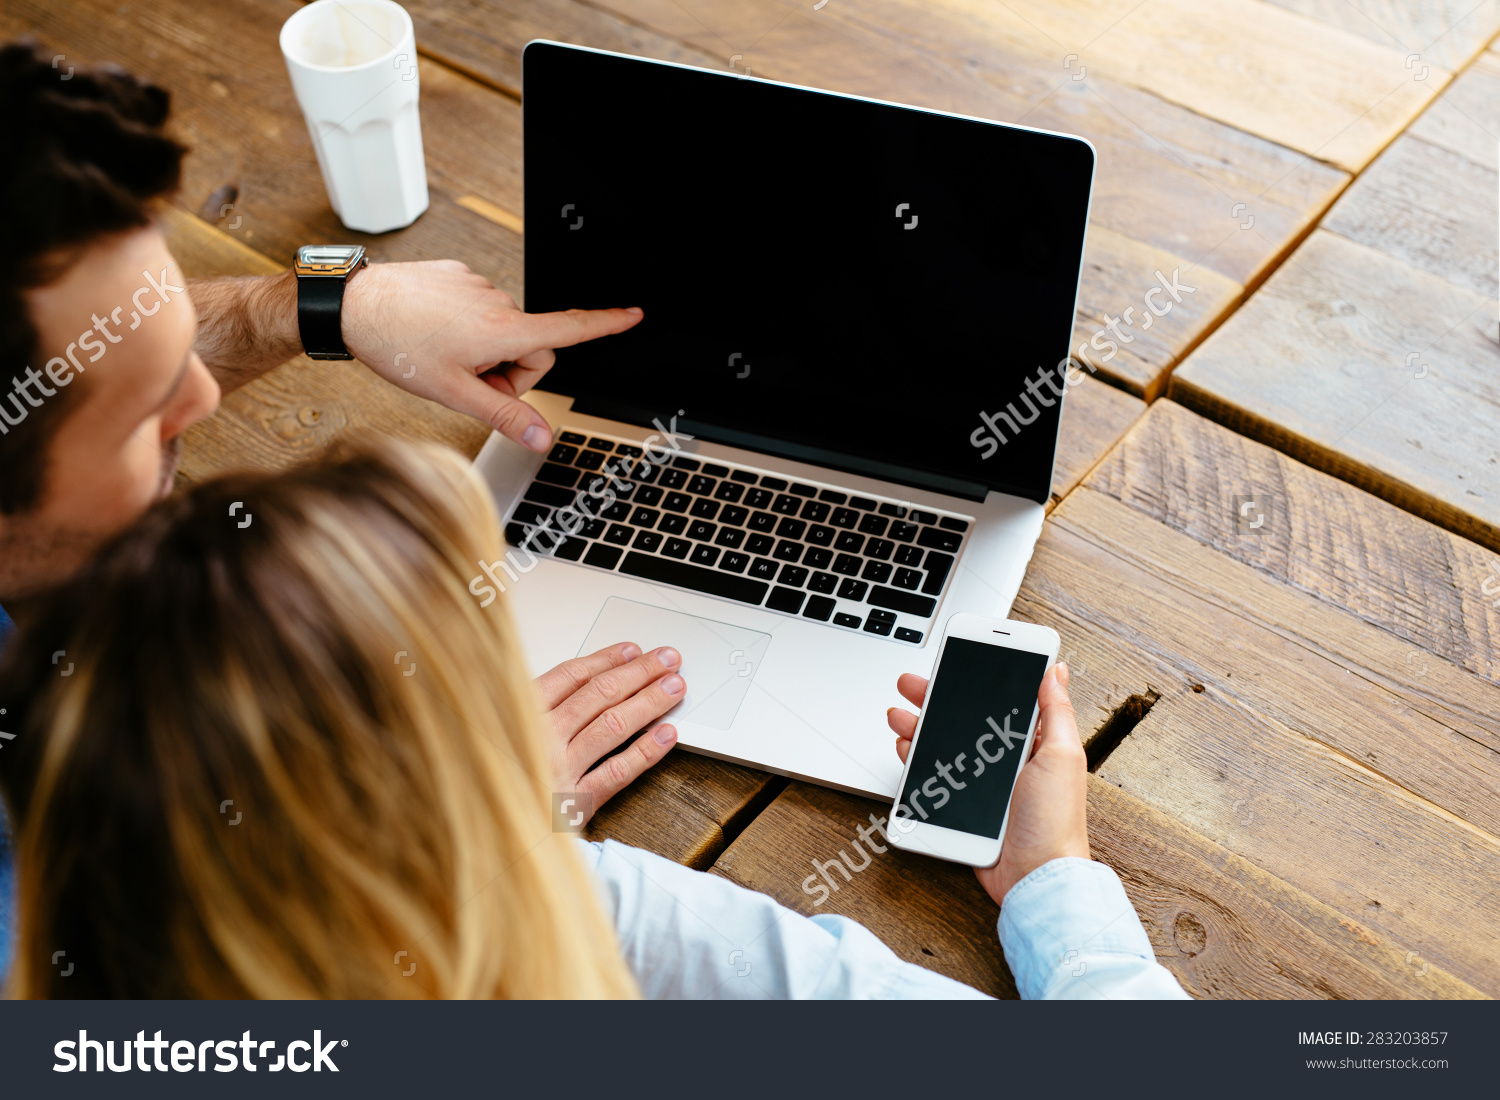smartphone: (882, 613, 1062, 866)
